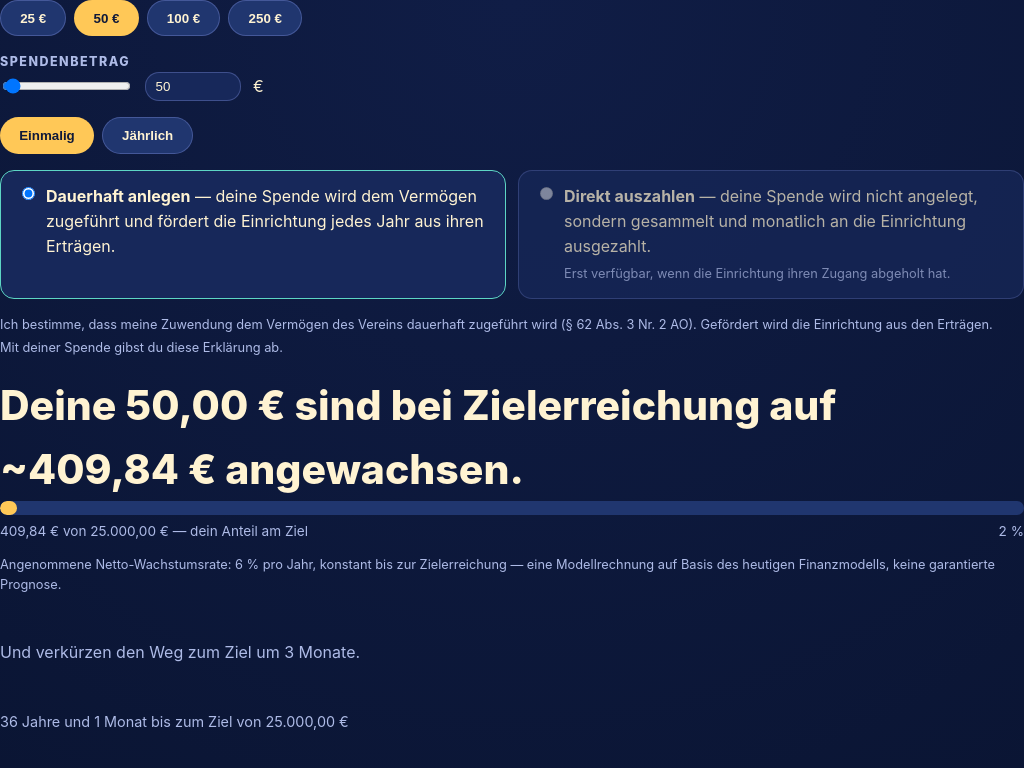
Test: SpendenRechner › passt die Wirkungs-Zeile beim Wechsel auf jährlich an (Formel je gespendetem Betrag)
Click the button "Jährlich" at (148, 135), box [102,117,193,154]
(page scrolled)
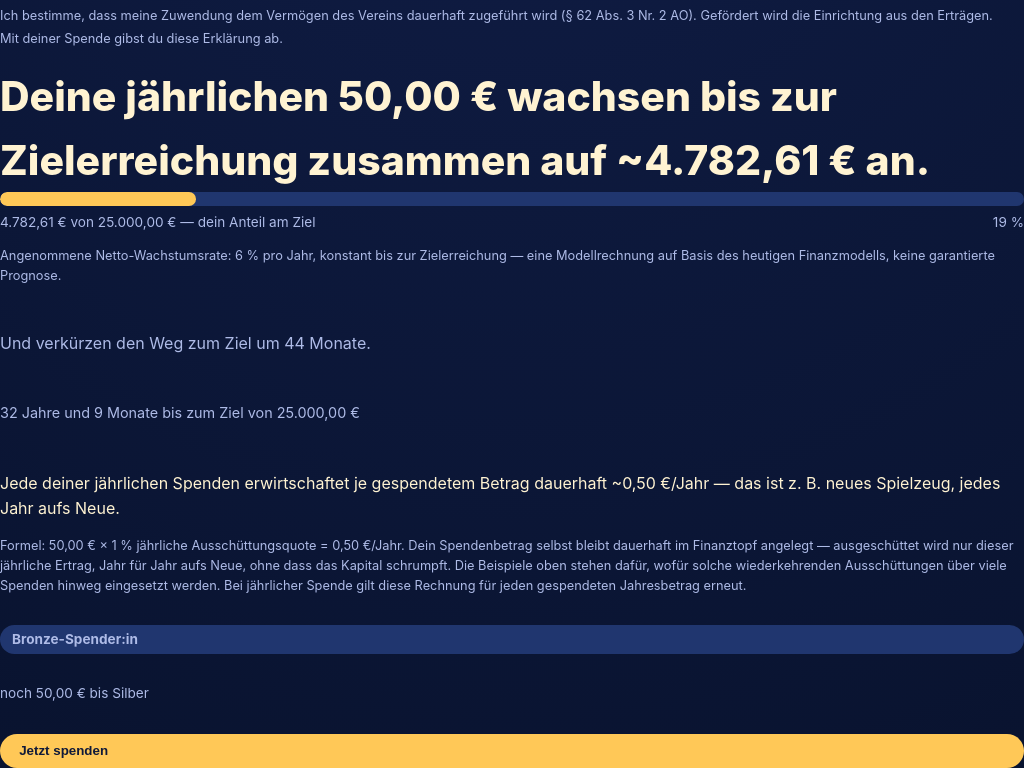
Expected: the element with test id "impact-beispiel" shows "0,50 €/Jahr", [0,473,1000,518]
Now the element with test id "impact-beispiel" shows "je gespendetem Betrag", box [0,473,1000,518]
